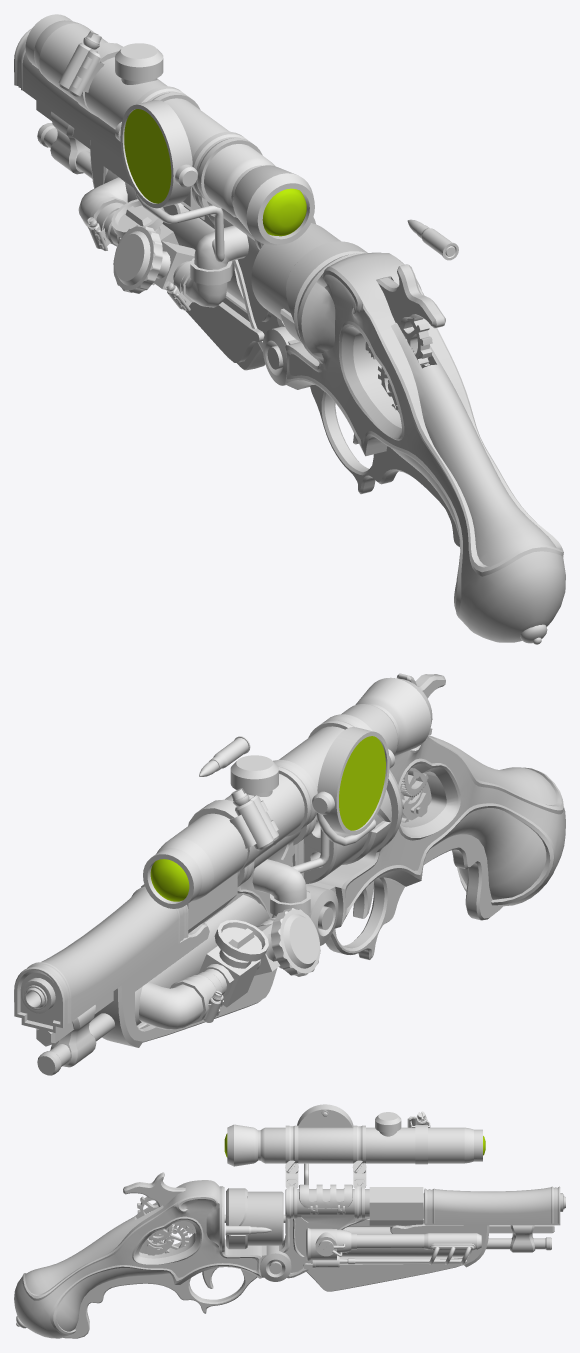
File: SteamPunkGunFinalLowP.fbx
The picture shows the model from 3 angles, top to bottom: view 1: azimuth 30°, elevation 25°; view 2: azimuth 150°, elevation 25°; view 3: azimuth 270°, elevation 25°; orthographic projection. The views are drawn at different scales.
Visible parts, largest first — view 1: Cylinder.028, Cylinder.019, Cube.010, Cylinder.047, Cylinder.020, Cube.006, Cube.008, Cylinder.022, Circle.007, Cylinder.043, Cylinder.051, Cylinder.052 (+6 smaller); view 2: Cylinder.028, Cylinder.019, Cylinder.022, Cube.010, Cylinder.047, Cube.008, Cylinder.052, Circle.007, Cube.006, Circle.005, Cylinder.051, Cylinder.020 (+9 smaller); view 3: Cylinder.028, Cylinder.019, Cube.010, Cylinder.022, Cylinder.045, Cylinder.043, Cylinder.020, Cube.008, Cylinder.021, Cylinder.059, Cylinder.047, Plane.003 (+7 smaller).
Part boxes in pixels (x1,y1,x2,y2): Cylinder.028: (285,252,565,642); Cylinder.019: (25,14,314,245); Cube.010: (36,101,445,370); Cylinder.047: (120,100,192,208); Cylinder.020: (251,223,367,343); Cube.006: (113,225,195,293); Cube.008: (310,385,459,547); Cylinder.022: (14,28,123,164); Circle.007: (135,191,248,285); Cylinder.043: (207,201,295,385); Cylinder.051: (58,31,122,116); Cylinder.052: (98,199,188,285); Cylinder.028: (307,735,565,928); Cylinder.019: (143,677,432,908); Cylinder.022: (14,885,188,1032); Cube.010: (36,673,445,1075); Cylinder.047: (317,727,389,835); Cube.008: (325,834,503,959); Cylinder.052: (192,920,268,1007); Circle.007: (252,813,376,916); Cube.006: (254,908,320,976); Circle.005: (139,979,208,1029); Cylinder.051: (188,788,279,873); Cylinder.020: (304,788,392,883); Cylinder.028: (14,1180,266,1338); Cylinder.019: (224,1112,485,1166); Cube.010: (123,1172,554,1291); Cylinder.022: (423,1186,560,1225); Cylinder.045: (306,1228,481,1268); Cylinder.043: (260,1189,369,1281); Cylinder.020: (224,1188,285,1249); Cube.008: (63,1267,257,1338); Cylinder.021: (369,1187,423,1225); Cylinder.059: (137,1196,195,1255); Cylinder.047: (297,1104,353,1127); Plane.003: (299,1184,352,1208).
Size of the model in its own units: 13.94 by 22.89 by 55.56.
